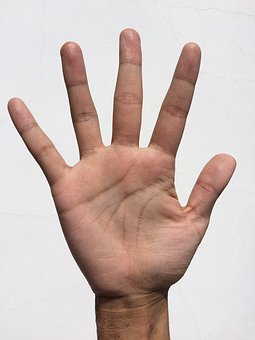palm: (58, 149, 204, 284)
